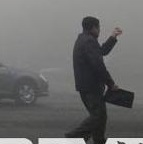person: (65, 13, 132, 137)
